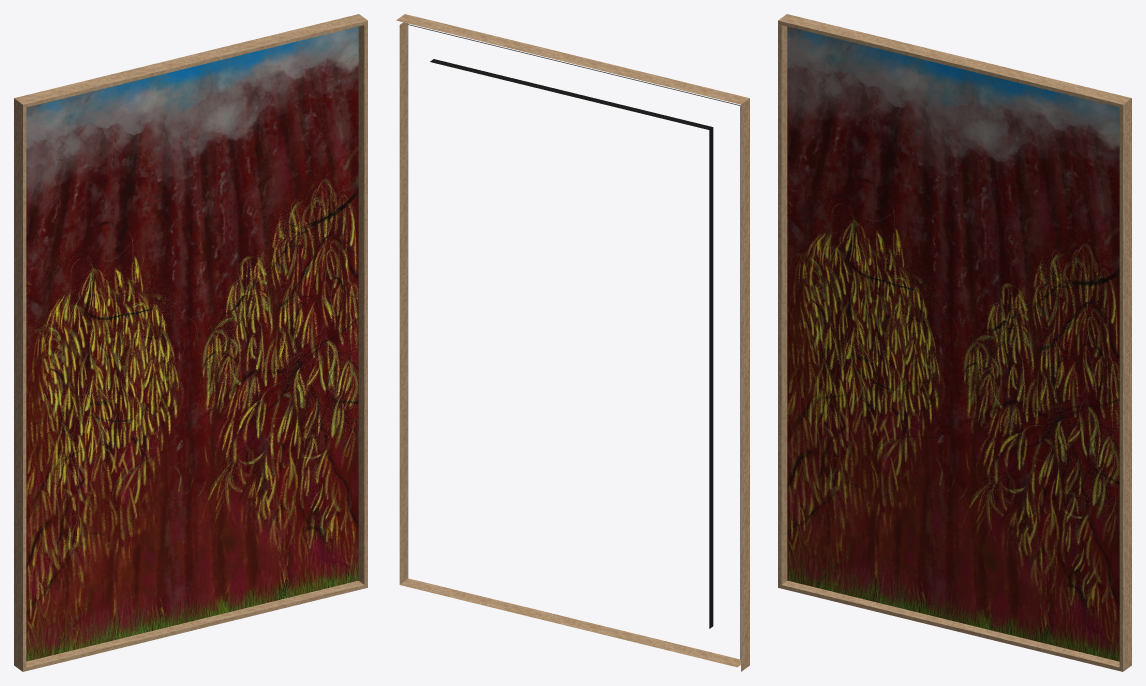
Rendered from os025_grand_caisse-chene.glb.
The picture shows the model from 3 angles, left to right: view 1: azimuth 30°, elevation 25°; view 2: azimuth 150°, elevation 25°; view 3: azimuth 330°, elevation 25°; orthographic projection.
Visible parts, largest first — view 1: os025_grand_caisse-chene; view 2: os025_grand_caisse-chene; view 3: os025_grand_caisse-chene.
Part boxes in pixels (left/top/right/bottom): os025_grand_caisse-chene: left=14, top=14, right=367, bottom=671; os025_grand_caisse-chene: left=396, top=14, right=749, bottom=671; os025_grand_caisse-chene: left=778, top=14, right=1131, bottom=671.
Size of the model in its own units: 0.7817 by 1.23 by 0.035.
Materials: 4 (2 with a texture image).
